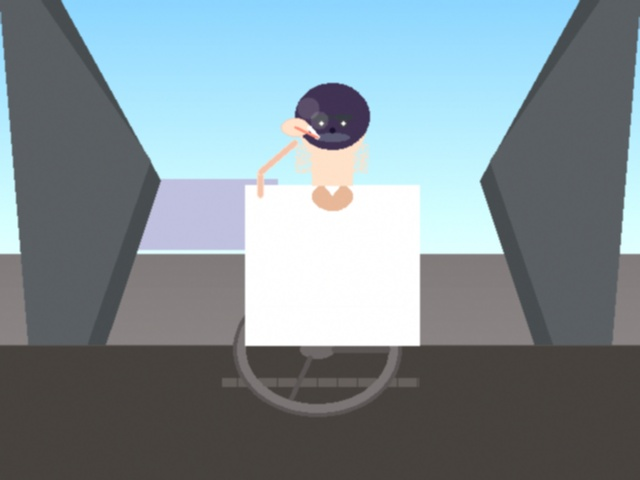smoking: (285, 112, 319, 142)
